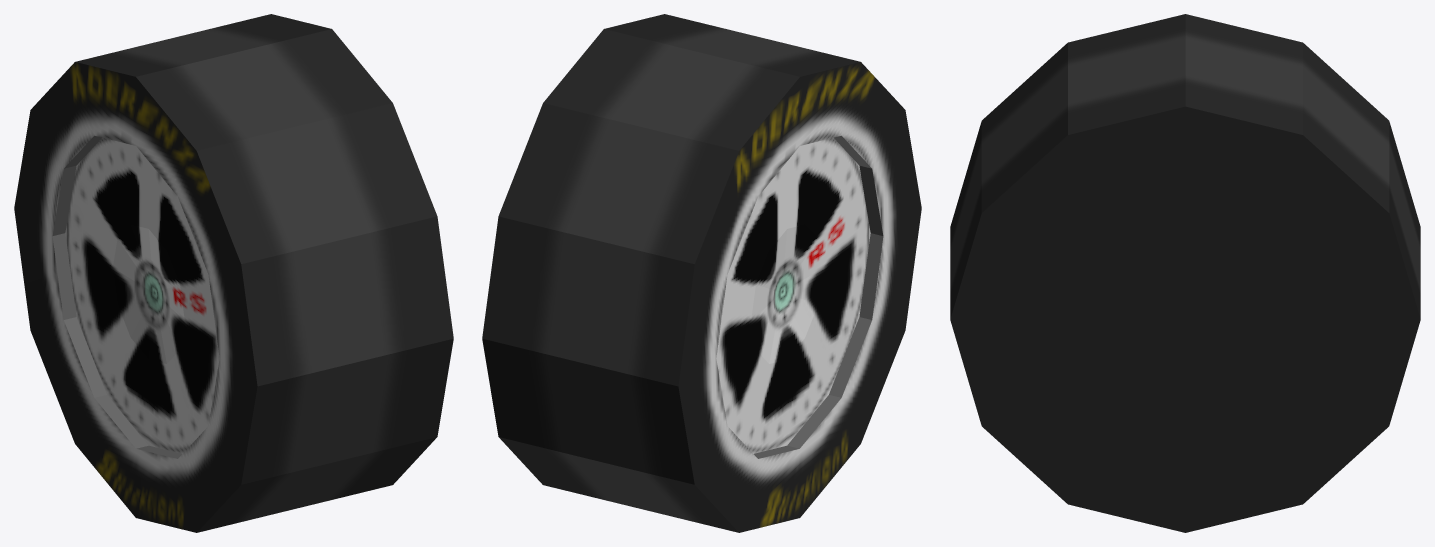
File: vehicles_fhqWheelR32TC.fbx
The picture shows the model from 3 angles, left to right: view 1: azimuth 30°, elevation 25°; view 2: azimuth 150°, elevation 25°; view 3: azimuth 270°, elevation 25°; orthographic projection. The views are drawn at different scales.
Visible parts, largest first — view 1: TCWheelImport; view 2: TCWheelImport; view 3: TCWheelImport.
Boxes of the visible parts, x1,y1,x2,y2 form: TCWheelImport: (14,14,453,532); TCWheelImport: (482,14,921,532); TCWheelImport: (950,14,1420,532).
Size of the model in its own units: 0.3737 by 0.8026 by 0.8026.
